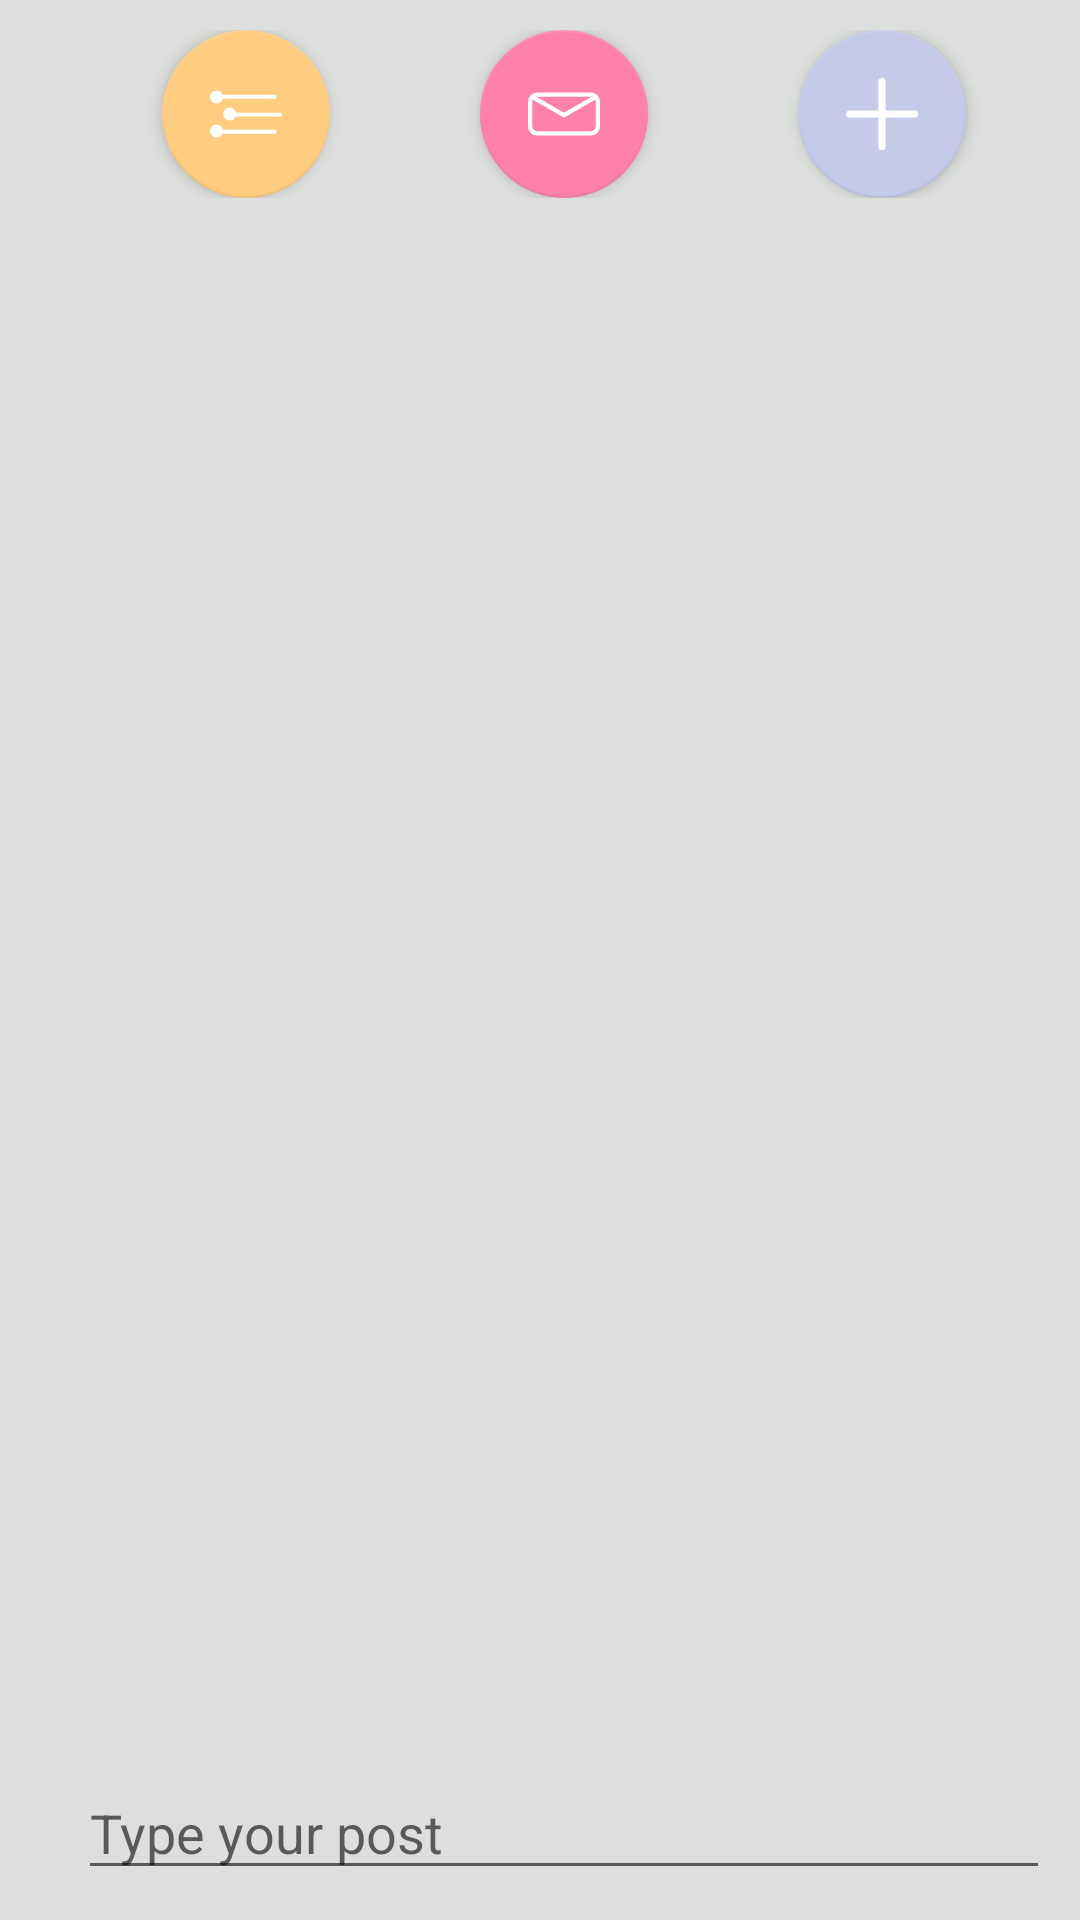

Named icons in this screenshot (1080w x 1920h) and their bounding boxes, (x1, y1, x2, y2):
message: (480, 30, 648, 198)
posts: (162, 30, 330, 198)
